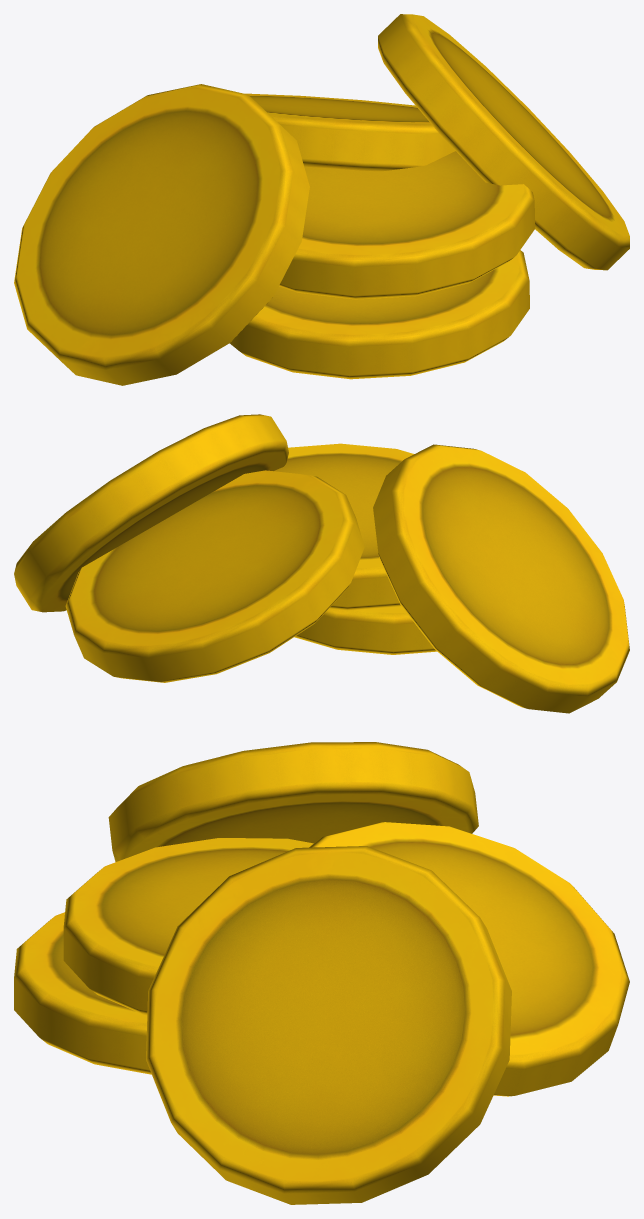
Rendered from coinbag_coinstex.fbx.
3 renders of one model, top to bottom at view 1: azimuth 30°, elevation 25°; view 2: azimuth 150°, elevation 25°; view 3: azimuth 270°, elevation 25°, orthographic. The views are drawn at different scales.
Visible parts, largest first — view 1: coinbag_coinstex; view 2: coinbag_coinstex; view 3: coinbag_coinstex.
Boxes of the visible parts, left/top/right/bottom form: coinbag_coinstex: left=14, top=14, right=629, bottom=385; coinbag_coinstex: left=14, top=414, right=629, bottom=713; coinbag_coinstex: left=14, top=742, right=629, bottom=1204.
Bounding box in the file's own units: 0.5614 × 0.221 × 0.4572.
